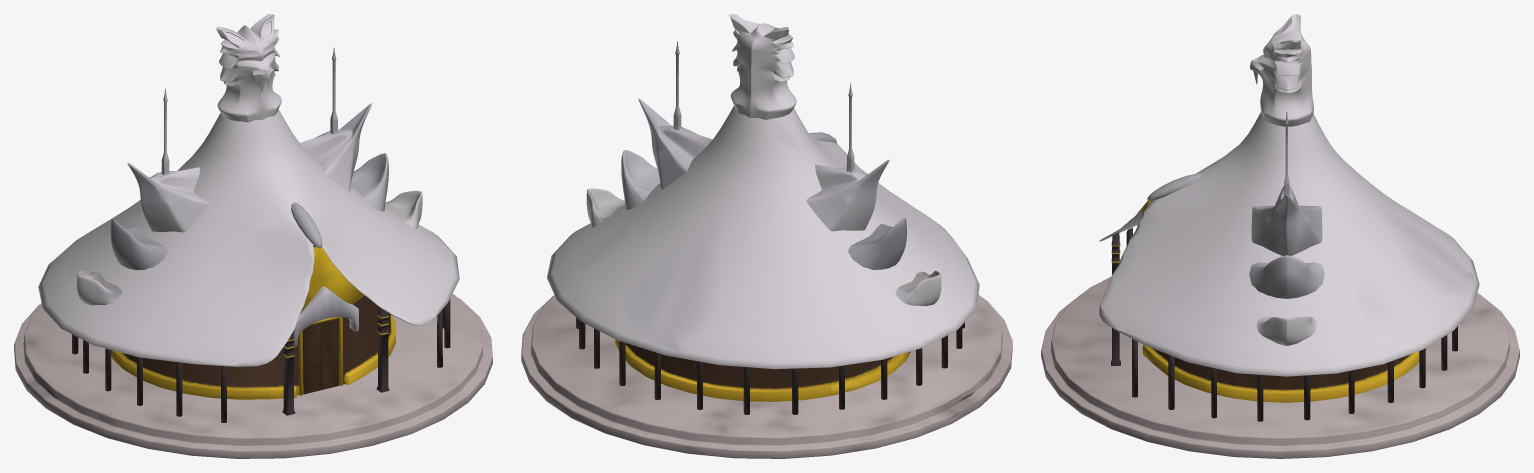
The model's file is ValaskjalfHall.glb.
3 views of the same model, side by side, from view 1: azimuth 30°, elevation 25°; view 2: azimuth 150°, elevation 25°; view 3: azimuth 270°, elevation 25° (orthographic). The views are drawn at different scales.
Parts seen in each view (by area): view 1: Plane, Cylinder, Cylinder.001, Cube.003, Cube.009, Cube.001, Cube.006, Cylinder.002, Cube.002, Cube.004, Cube.007, Cylinder.003 (+2 smaller); view 2: Plane, Cylinder, Cylinder.001, Cube.003, Cube.009, Cube.001, Cylinder.002, Cube.002; view 3: Plane, Cylinder, Cylinder.001, Cube.009, Cube.003, Cylinder.002, Cube.001, Cube.002, Cube.004, Cube.008.
Part boxes in pixels (bbox=[...]): Plane: bbox=[38, 109, 459, 366]; Cylinder: bbox=[14, 293, 492, 458]; Cylinder.001: bbox=[111, 245, 395, 399]; Cube.003: bbox=[127, 47, 371, 232]; Cube.009: bbox=[216, 14, 281, 122]; Cube.001: bbox=[110, 153, 388, 269]; Cube.006: bbox=[303, 318, 338, 394]; Cylinder.002: bbox=[72, 299, 450, 422]; Cube.002: bbox=[77, 190, 422, 305]; Cube.004: bbox=[282, 307, 389, 415]; Cube.007: bbox=[293, 286, 358, 346]; Cylinder.003: bbox=[300, 247, 363, 312]; Plane: bbox=[547, 106, 979, 369]; Cylinder: bbox=[521, 294, 1012, 458]; Cylinder.001: bbox=[615, 339, 910, 401]; Cube.003: bbox=[638, 41, 889, 231]; Cube.009: bbox=[729, 14, 796, 119]; Cube.001: bbox=[621, 150, 906, 269]; Cylinder.002: bbox=[576, 317, 964, 414]; Cube.002: bbox=[586, 188, 941, 306]; Plane: bbox=[1099, 112, 1479, 376]; Cylinder: bbox=[1041, 277, 1519, 458]; Cylinder.001: bbox=[1142, 201, 1426, 402]; Cube.009: bbox=[1250, 14, 1313, 126]; Cube.003: bbox=[1251, 112, 1322, 255]; Cylinder.002: bbox=[1126, 227, 1457, 421]; Cube.001: bbox=[1249, 255, 1324, 298]; Cube.002: bbox=[1257, 316, 1316, 345]; Cube.004: bbox=[1111, 232, 1120, 365]; Cube.008: bbox=[1147, 173, 1200, 201].
Bounding box in the file's own units: 40.82 × 31.05 × 40.82.
Materials: 1 (1 with a texture image).
